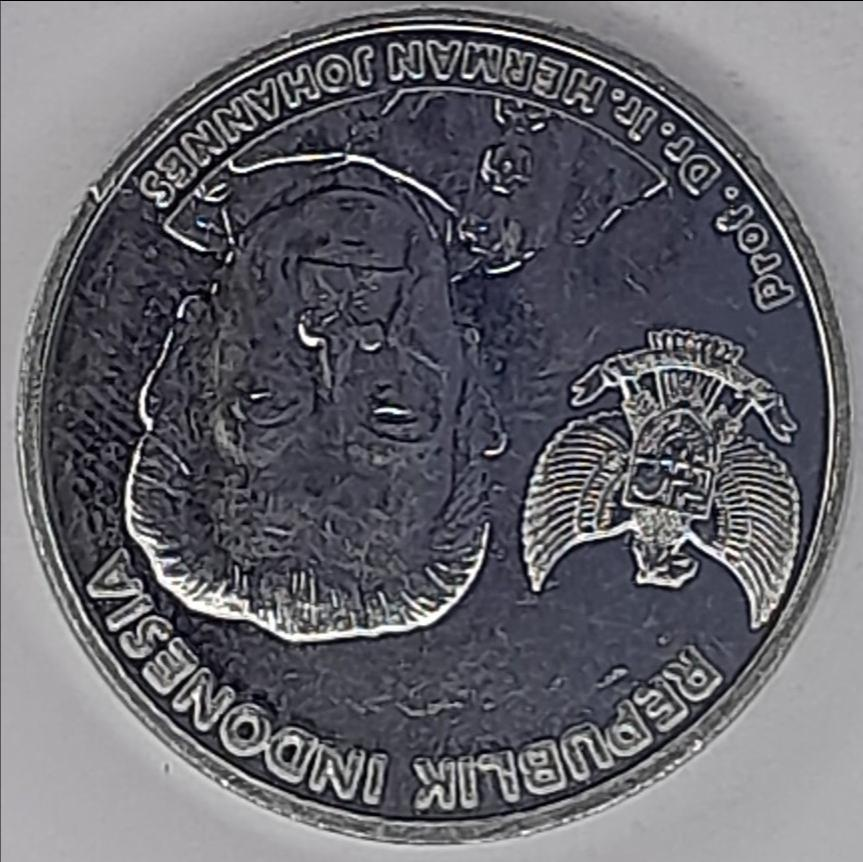coin_100_e2016: (10, 0, 858, 847)
